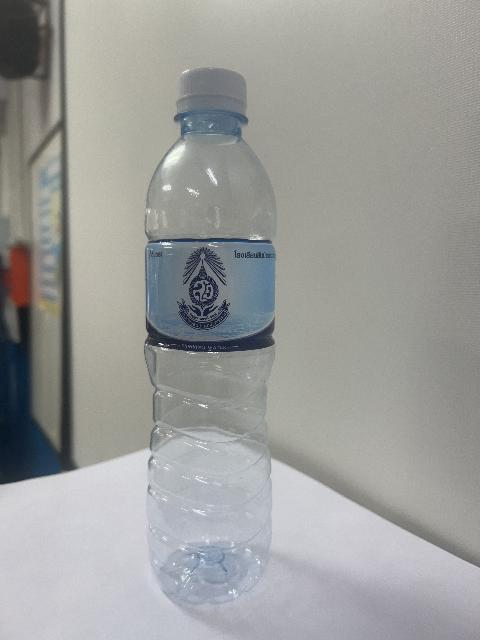bottle: (145, 68, 276, 603)
